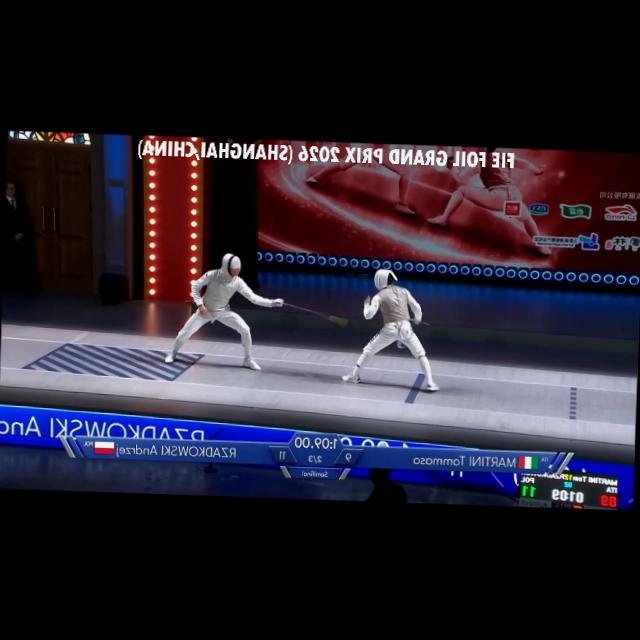blade: (269, 294, 350, 329)
